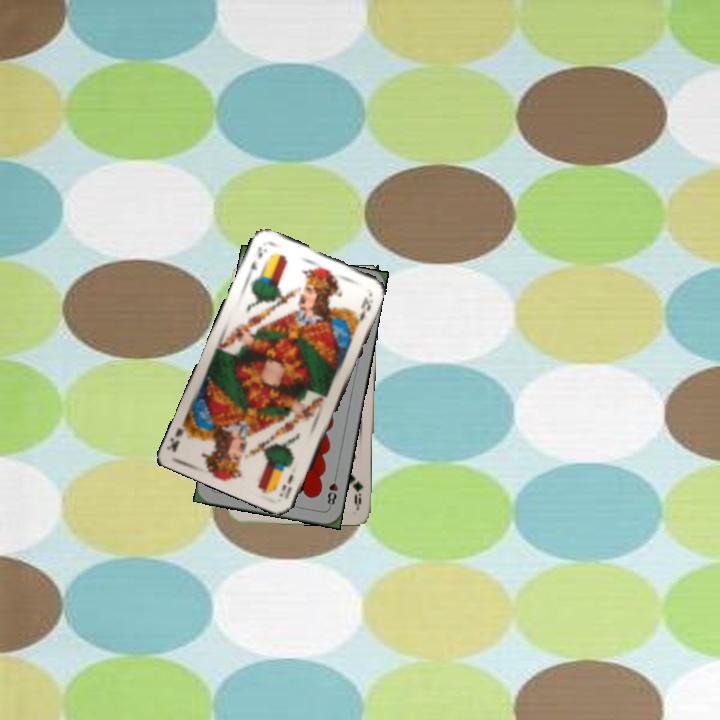EK: (246, 242, 270, 280), (275, 470, 296, 502)
G9: (352, 477, 366, 509)
H8: (323, 470, 341, 510)
